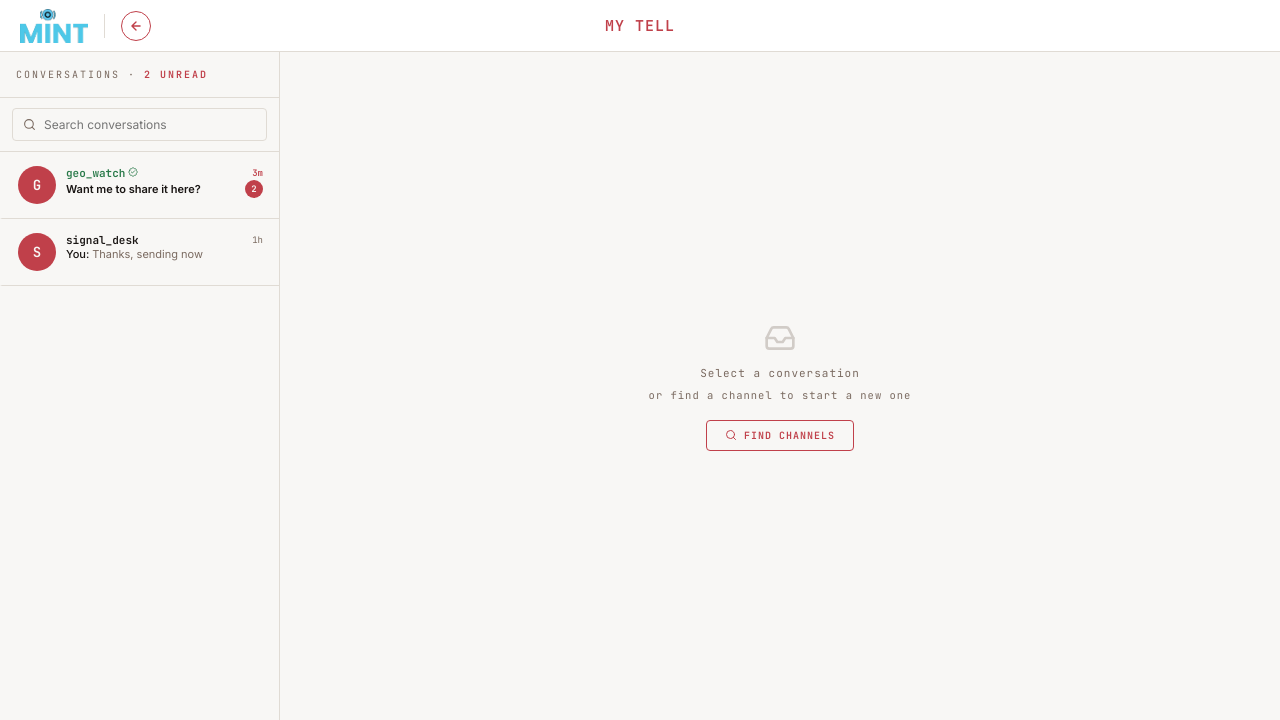
Scenario: MessagesPage › says when nothing matches and clears with the × button
Type "zzz" into the search field labelled "Search conversations" at (151, 124), box [44, 109, 258, 140]
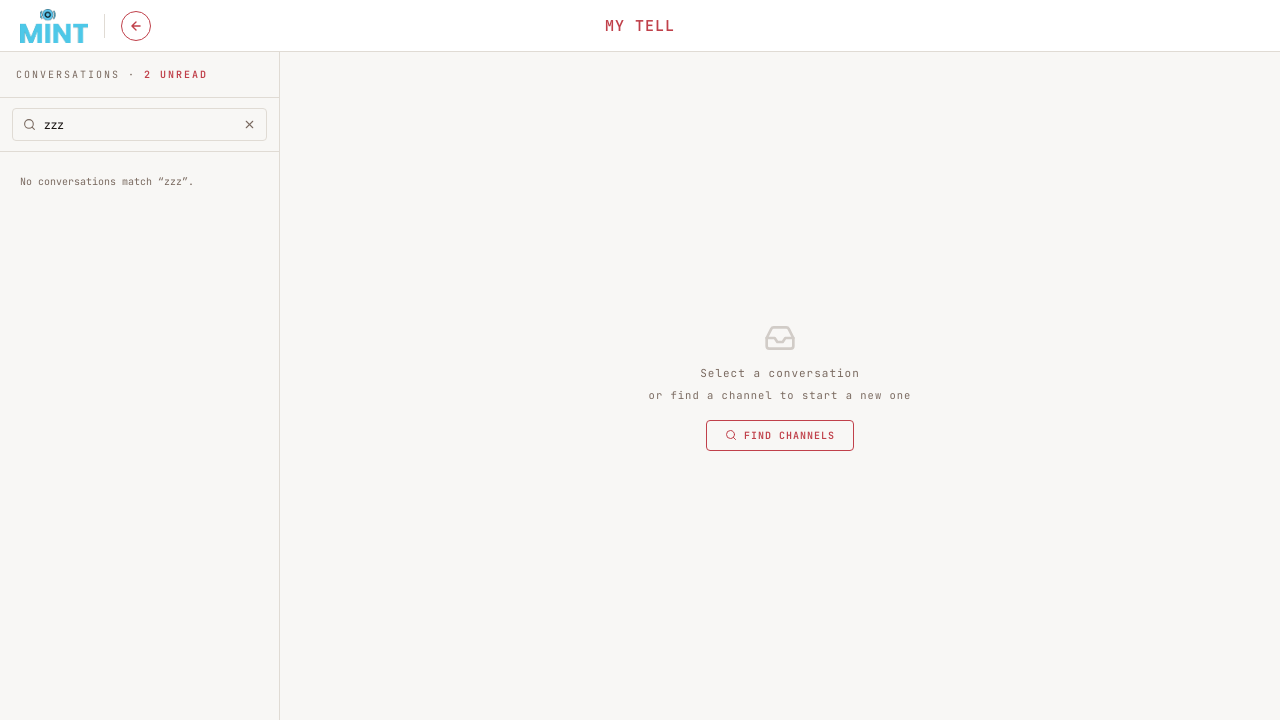
expect the text "No conversations match “zzz”." is shown: met, box [20, 175, 194, 188]
Click the button named "clear search" at (250, 124), box [241, 116, 258, 133]
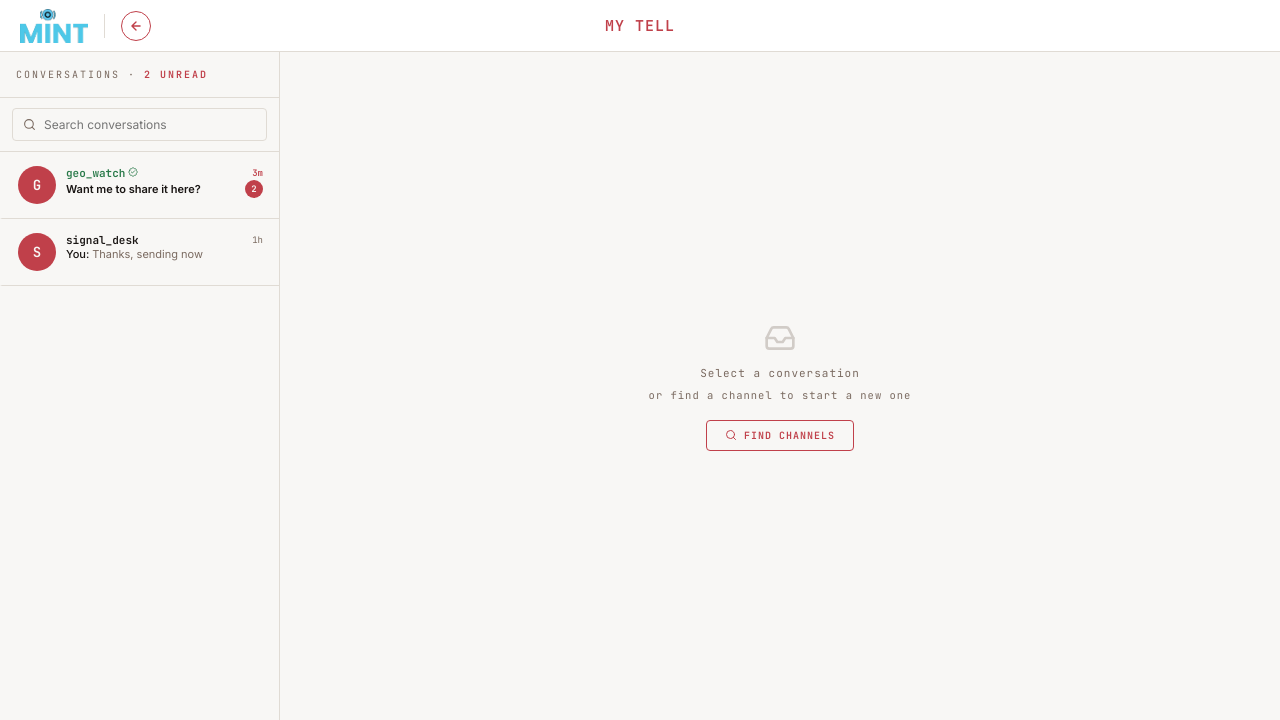
expect the text "geo_watch" is shown: met, box [66, 166, 138, 180]
expect the text "signal_desk" is shown: met, box [66, 233, 139, 247]
